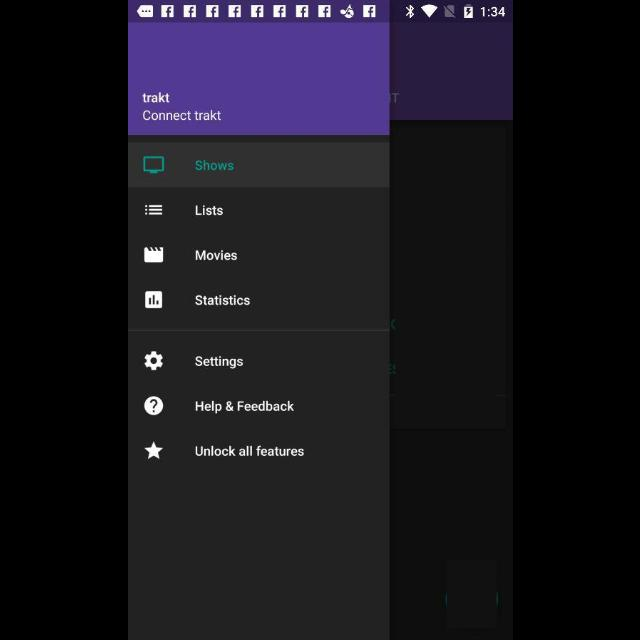icon: (144, 396, 162, 416), (144, 442, 162, 461), (144, 352, 162, 371), (144, 292, 162, 308), (144, 204, 162, 216)
image: (142, 156, 164, 174), (144, 246, 162, 264)
panel: (128, 24, 388, 640)
text: (196, 400, 294, 414), (194, 445, 304, 457), (142, 111, 222, 121), (194, 355, 243, 369), (194, 295, 250, 307), (194, 160, 233, 172), (195, 250, 238, 260), (142, 92, 170, 104), (195, 204, 223, 216)
uppertaskbar: (128, 1, 512, 23)
